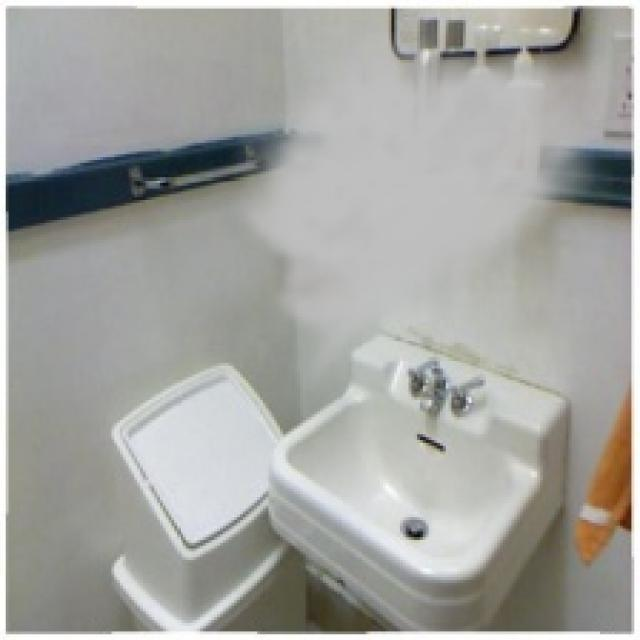Smoke: (225, 31, 618, 400)
